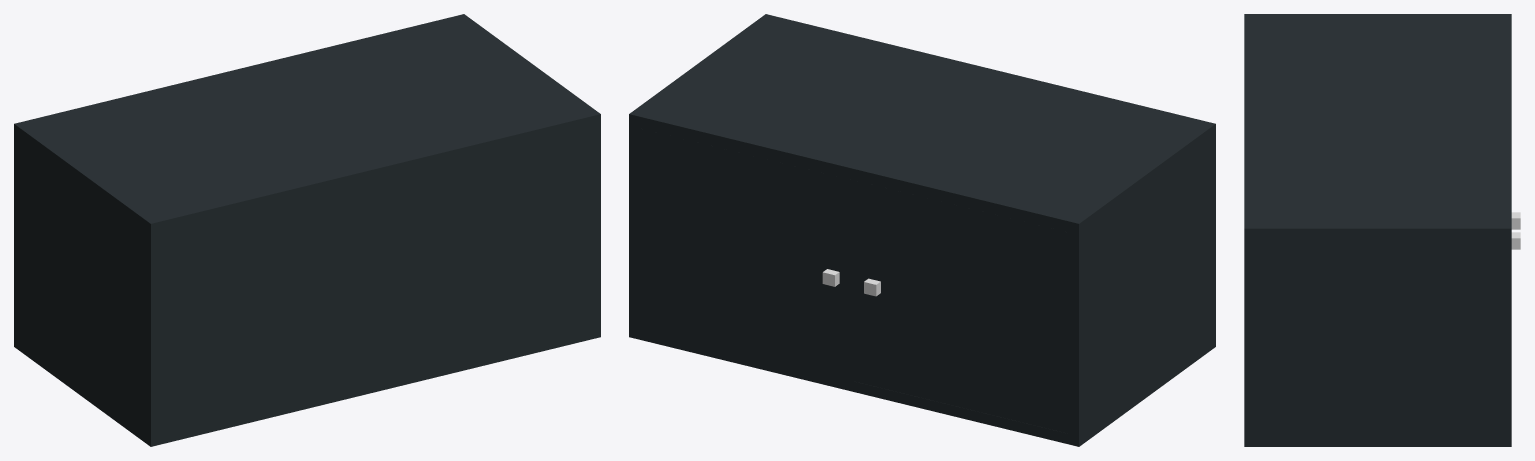
File: drawer1.fbx
3 views of the same model, side by side, from view 1: azimuth 30°, elevation 25°; view 2: azimuth 150°, elevation 25°; view 3: azimuth 270°, elevation 25° (orthographic). The views are drawn at different scales.
Visible parts, largest first — view 1: Cube; view 2: Cube, Cube.001, Cube.002; view 3: Cube.
Boxes of the visible parts, x1,y1,x2,y2 form: Cube: (14,14,600,446); Cube: (629,14,1215,446); Cube.001: (854,180,1067,433); Cube.002: (641,128,853,381); Cube: (1244,14,1511,446).
Size of the model in its own units: 3.8 by 1.8 by 2.07.
